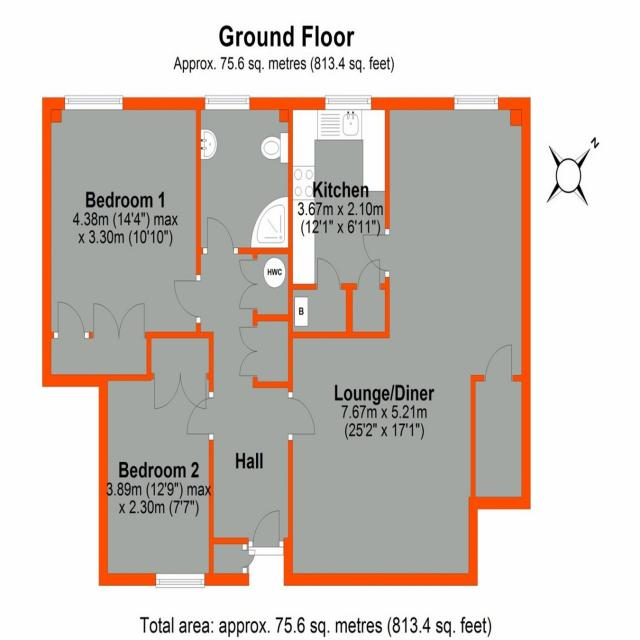DOOR: (250, 506, 282, 550), (360, 231, 391, 275), (287, 396, 318, 438), (185, 395, 214, 438), (206, 215, 236, 255), (172, 279, 202, 319)
ROOM: (282, 93, 531, 587), (42, 95, 202, 388), (98, 372, 213, 590), (288, 94, 390, 290)
WINDOW: (64, 94, 124, 111), (324, 93, 373, 112), (452, 94, 500, 113), (155, 572, 206, 589), (204, 94, 251, 111)
